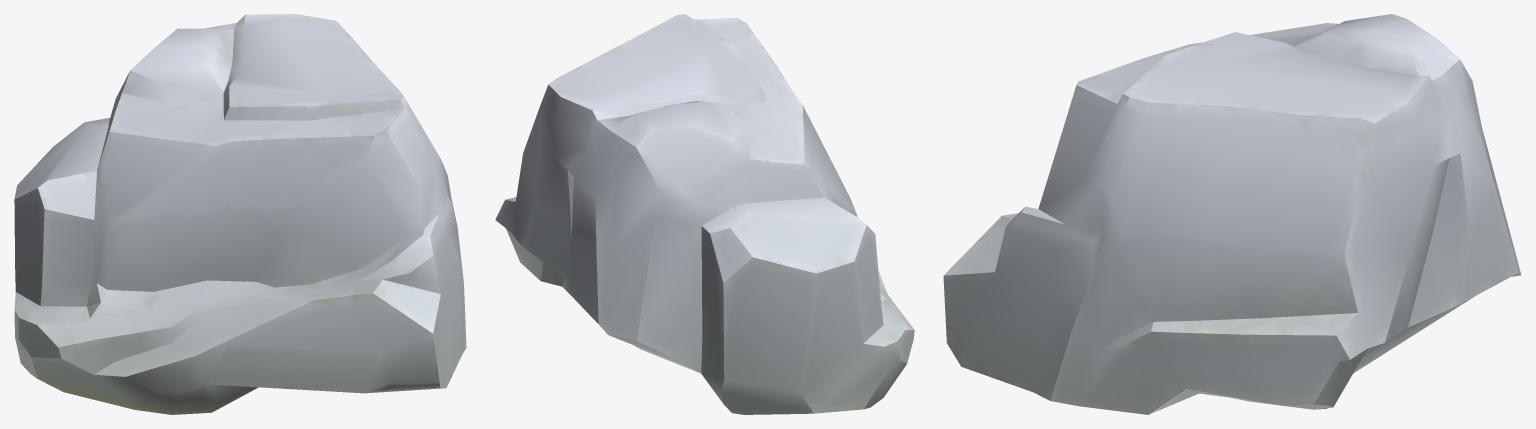
File: SnowRock_Medium_3.obj
3 views of the same model, side by side, from view 1: azimuth 30°, elevation 25°; view 2: azimuth 150°, elevation 25°; view 3: azimuth 270°, elevation 25° (orthographic). The views are drawn at different scales.
Parts seen in each view (by area): view 1: SnowRock_Medium_3; view 2: SnowRock_Medium_3; view 3: SnowRock_Medium_3.
Boxes of the visible parts, x1,y1,x2,y2 form: SnowRock_Medium_3: (14, 14, 466, 414); SnowRock_Medium_3: (495, 14, 914, 414); SnowRock_Medium_3: (943, 14, 1521, 414).
Bounding box in the file's own units: 3.42 × 2.32 × 3.48.
Materials: 1 (1 with a texture image).
